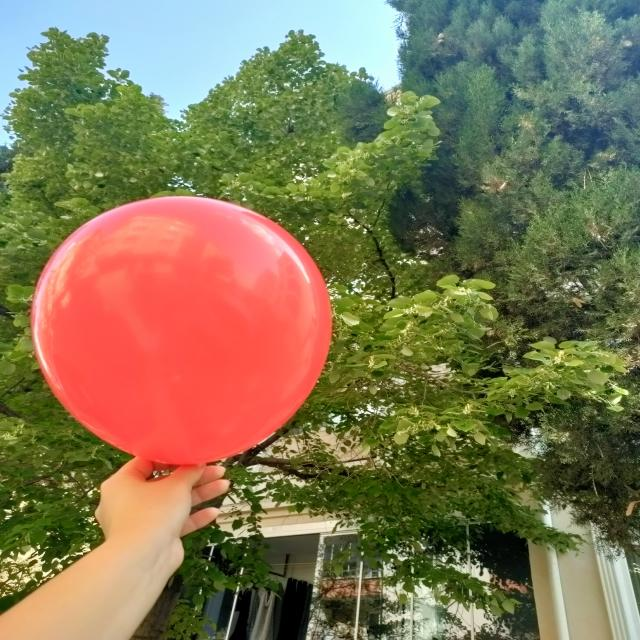red: (35, 197, 330, 465)
